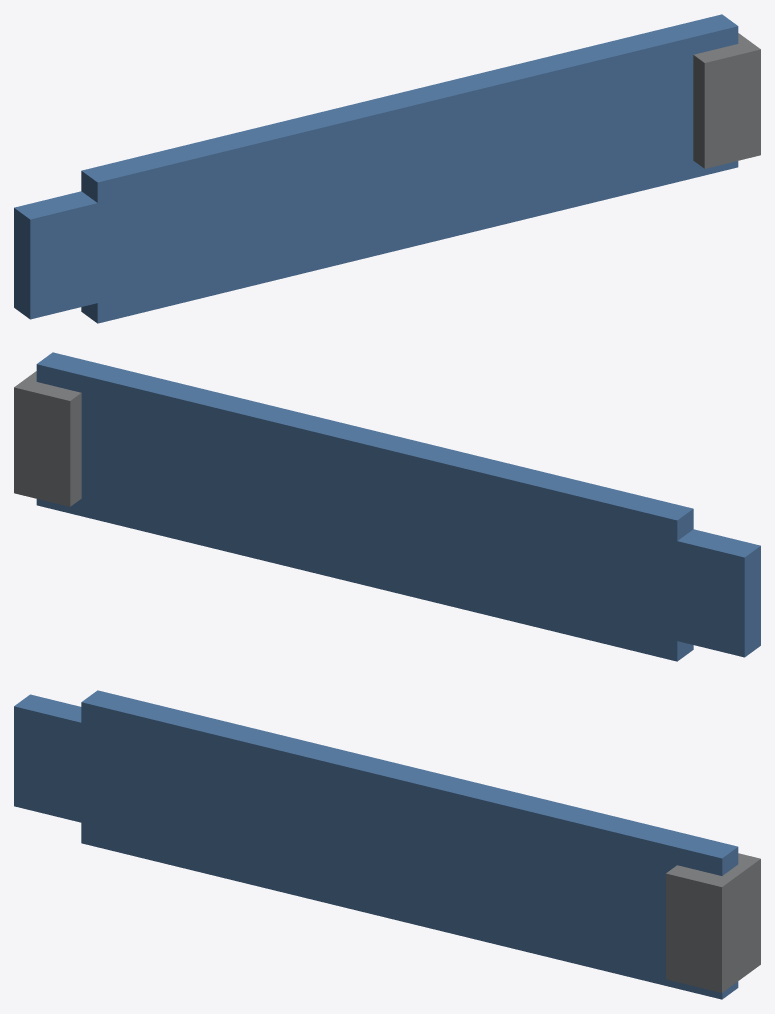
File: Sign_Arm.fbx
3 views of the same model, one above another, from view 1: azimuth 30°, elevation 25°; view 2: azimuth 150°, elevation 25°; view 3: azimuth 330°, elevation 25° (orthographic).
Parts seen in each view (by area): view 1: Sign_Arm; view 2: Sign_Arm; view 3: Sign_Arm.
Part boxes in pixels (x1,y1,x2,y2): Sign_Arm: [14, 14, 760, 323]; Sign_Arm: [14, 352, 760, 661]; Sign_Arm: [14, 690, 760, 999].
Size of the model in its own units: 1.28 by 0.24 by 0.12.
